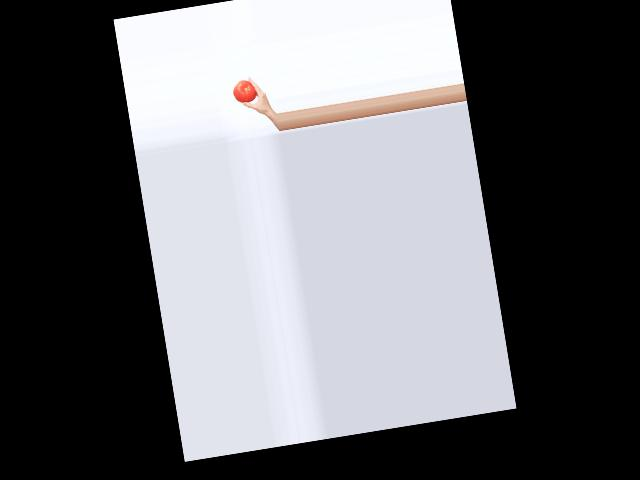tomato: (231, 78, 257, 103)
